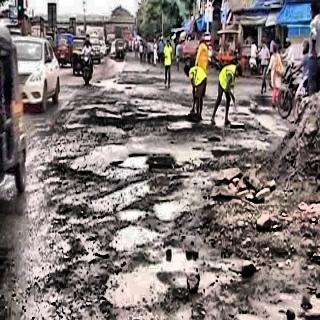pothole: (161, 229, 251, 291), (106, 263, 168, 320), (278, 264, 319, 320), (87, 176, 148, 208), (150, 194, 204, 230), (106, 224, 161, 257), (163, 110, 210, 142), (110, 144, 154, 172), (126, 93, 164, 116), (114, 210, 150, 222)
